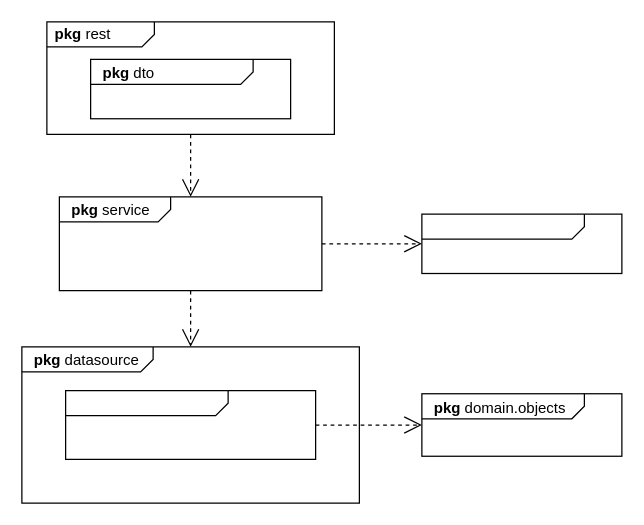
Some shapes in this 644 by 525 pixel diagram are drawn without their labels. Here are the shapes that lost their labels. From the top down, the centre of each, then its label:
the point at 521,243: pkg exceptions
the point at 190,424: pkg datamapper
